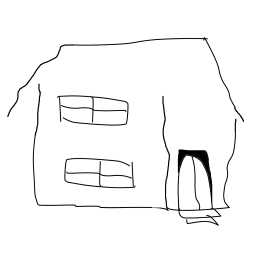closed_window: (62, 147, 139, 194), (56, 88, 135, 129)
door: (171, 140, 216, 213)
single_line_roof: (9, 30, 249, 106)
wall: (26, 82, 240, 216)
